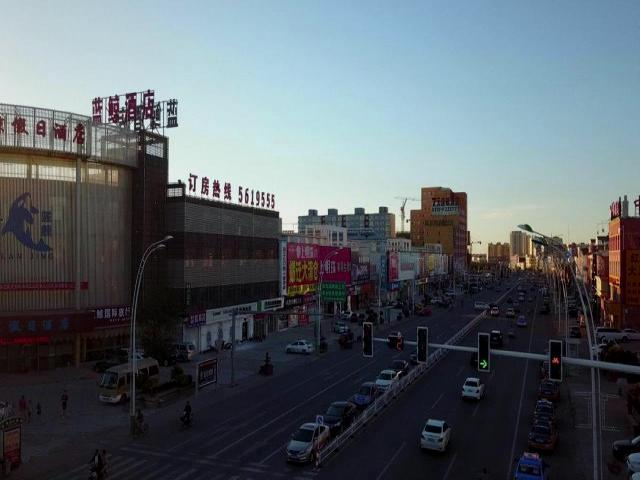out of water: (89, 448, 102, 480), (61, 389, 68, 419), (19, 395, 26, 423), (136, 410, 144, 434), (100, 449, 106, 480), (184, 401, 191, 426), (4, 402, 9, 429), (27, 400, 33, 422), (37, 402, 42, 420), (331, 321, 334, 331), (510, 325, 513, 333), (547, 306, 549, 314), (339, 309, 341, 317), (461, 300, 463, 304), (530, 296, 532, 300), (531, 309, 533, 313), (528, 308, 529, 312)
